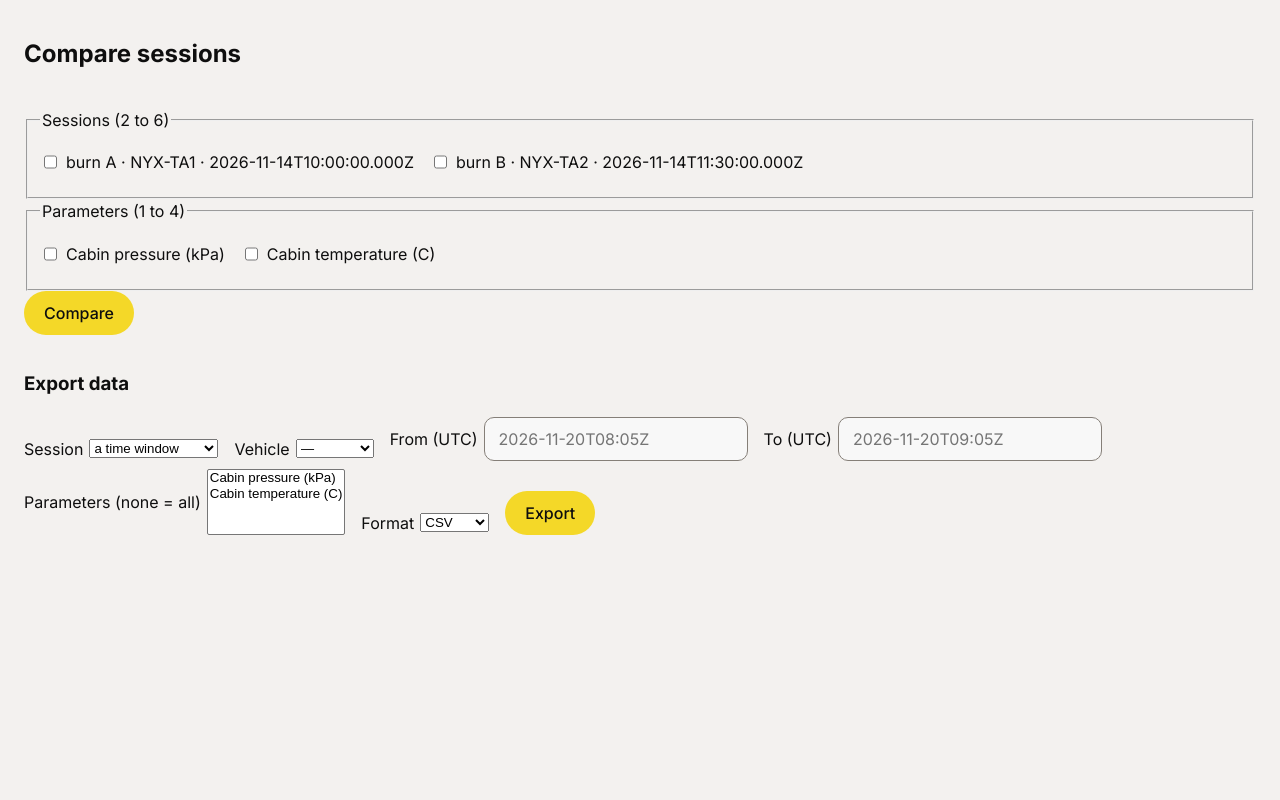
Test: a 400 is shown with the server's message and no chart
The image size is (1280, 800).
Click the checkbox labelled "burn A · NYX-TA1 · 2026-11-14T10:00:00.000Z".
click(50, 162)  # box [44,140,57,184]
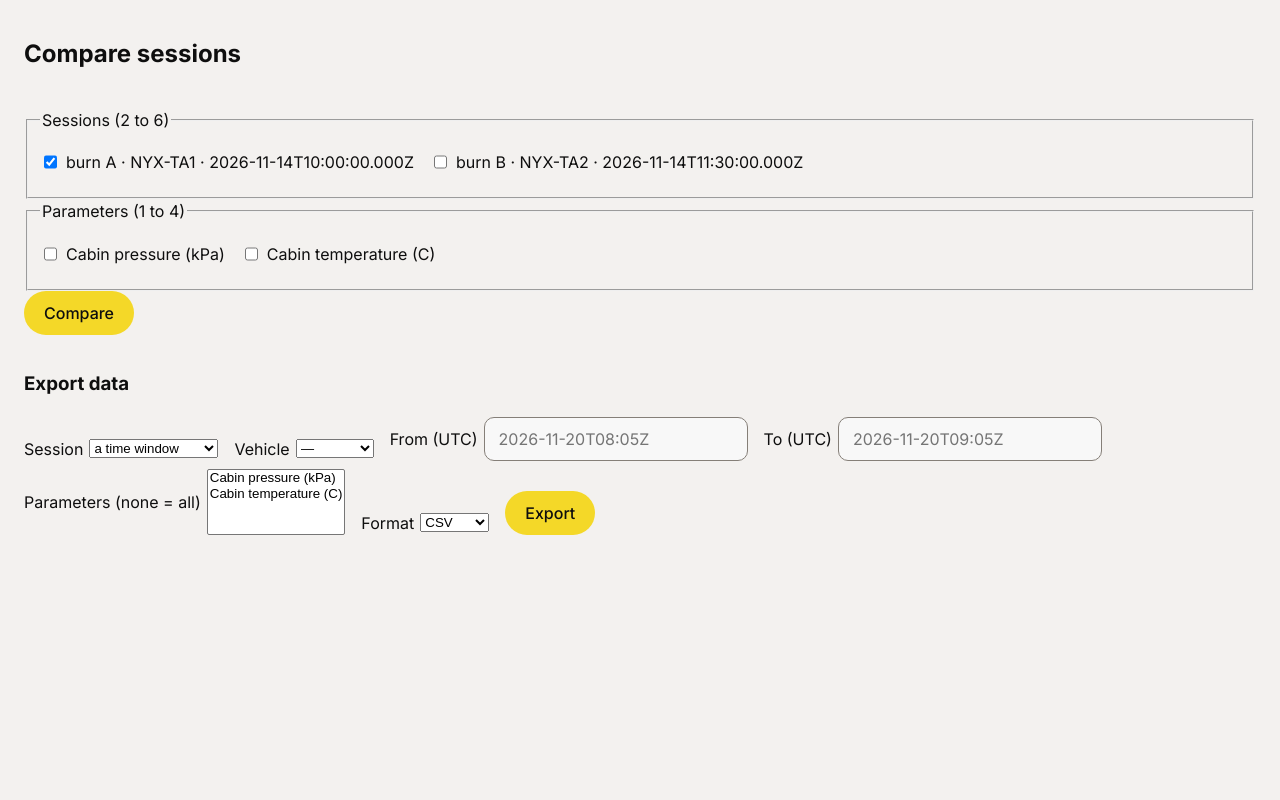
Click the checkbox labelled "burn B · NYX-TA2 · 2026-11-14T11:30:00.000Z".
click(440, 162)  # box [434,140,447,184]
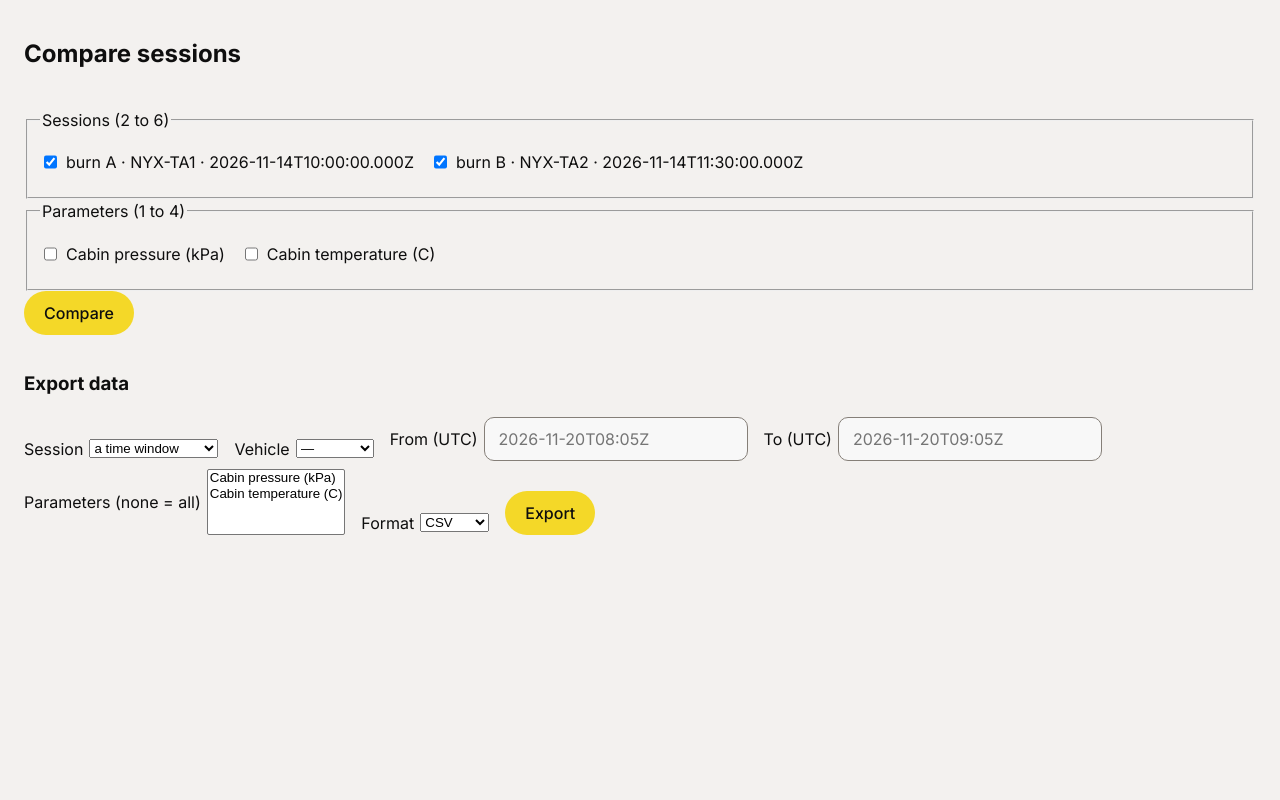
Click the checkbox labelled "Cabin pressure (kPa)".
click(50, 254)  # box [44,232,57,276]
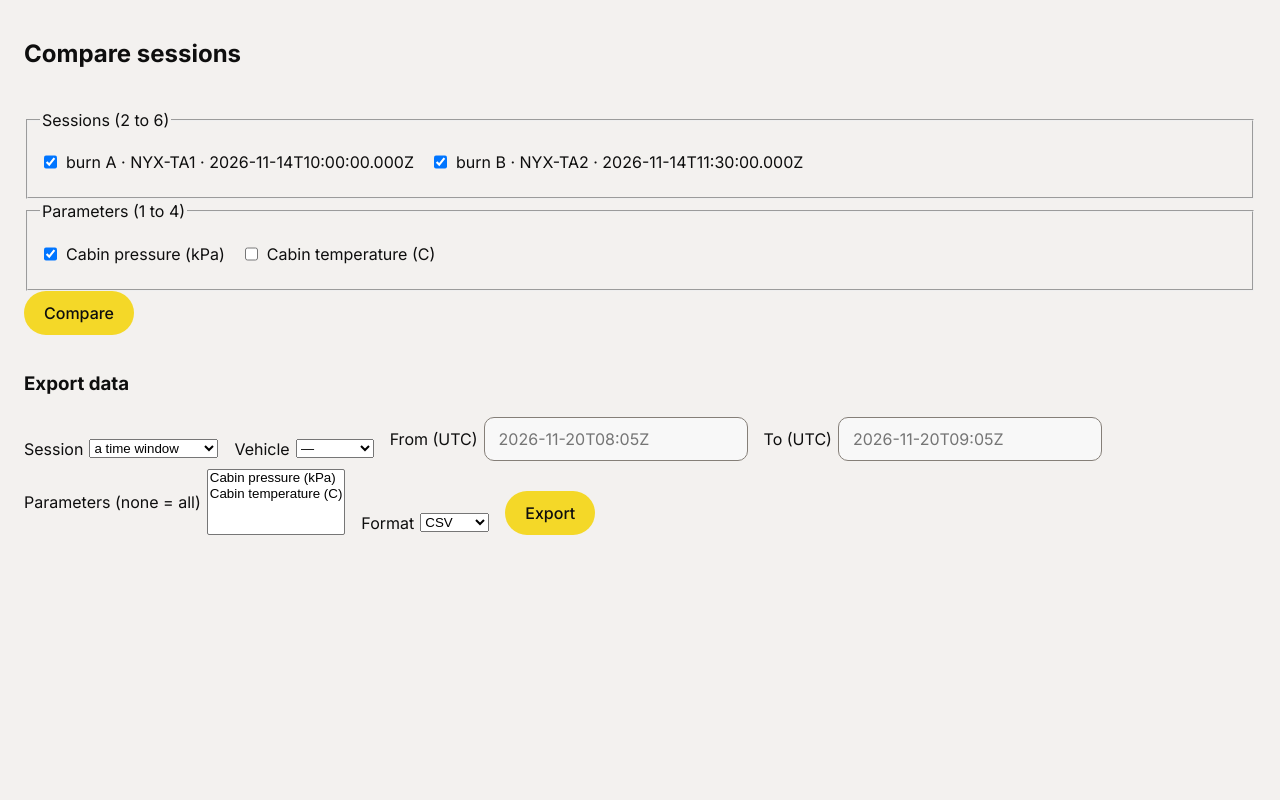
Click the button "Compare".
click(79, 313)  # box [24,291,134,335]
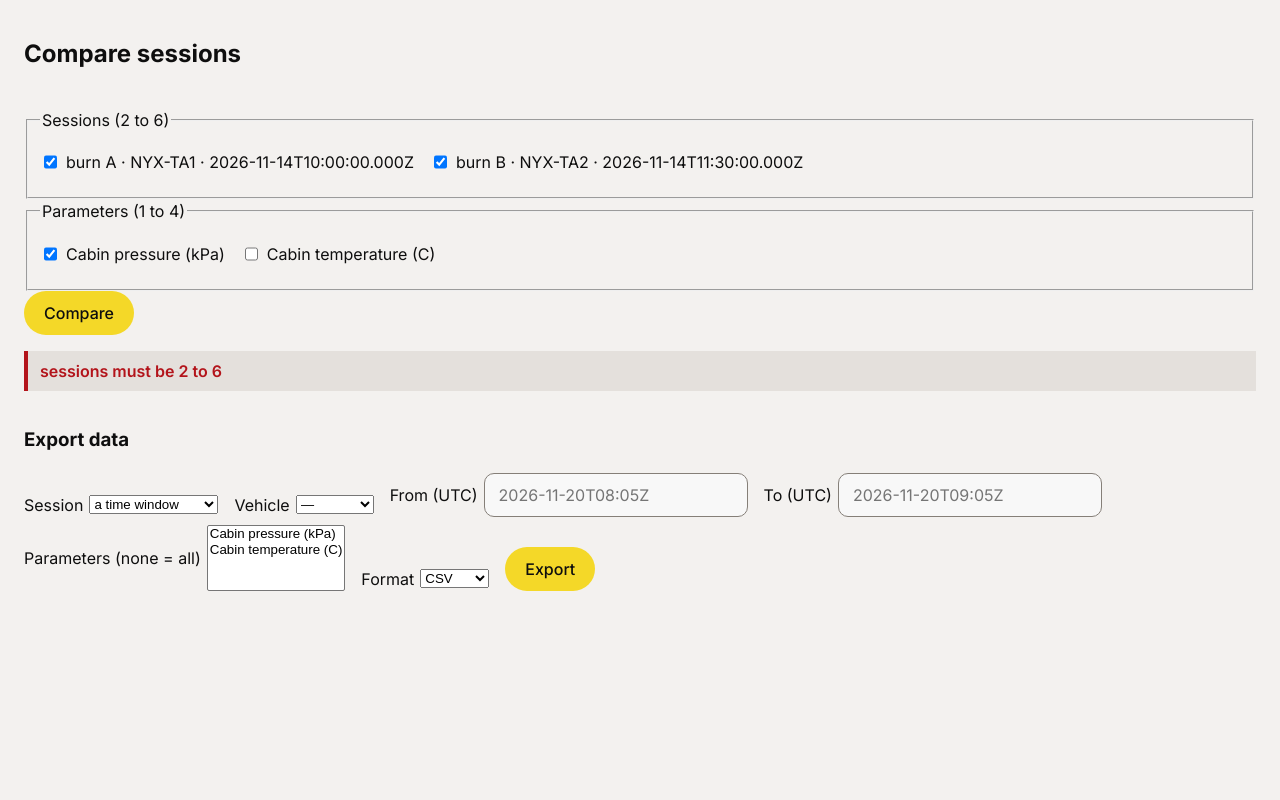
Expected: the message "sessions must be 2 to 6" is shown, [24,351,1256,391]
